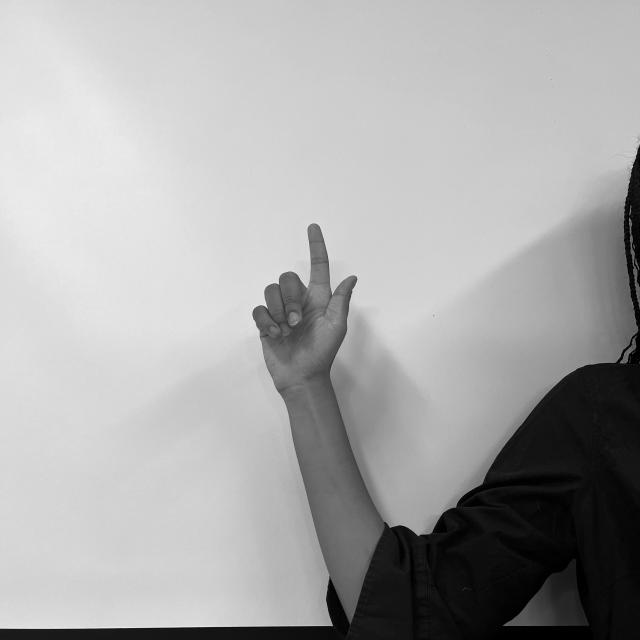Letra G: (248, 219, 360, 389)
